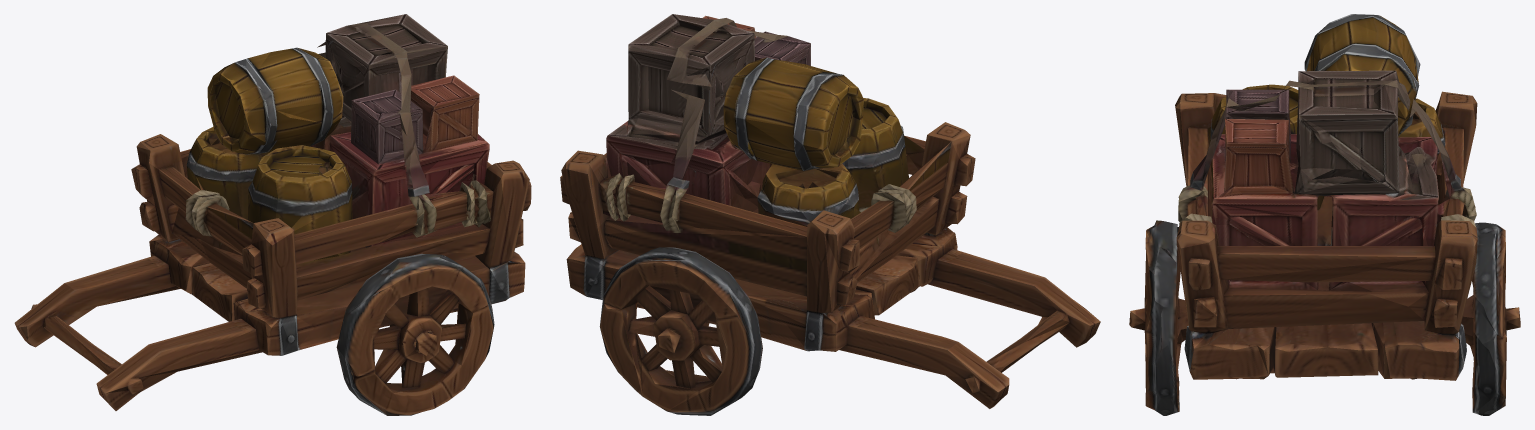
The picture shows the model from 3 angles, left to right: view 1: azimuth 30°, elevation 25°; view 2: azimuth 150°, elevation 25°; view 3: azimuth 270°, elevation 25°; orthographic projection. The views are drawn at different scales.
Bounding box in the file's own units: 1.9 × 1.34 × 1.36.
1 material, 1 textured.
